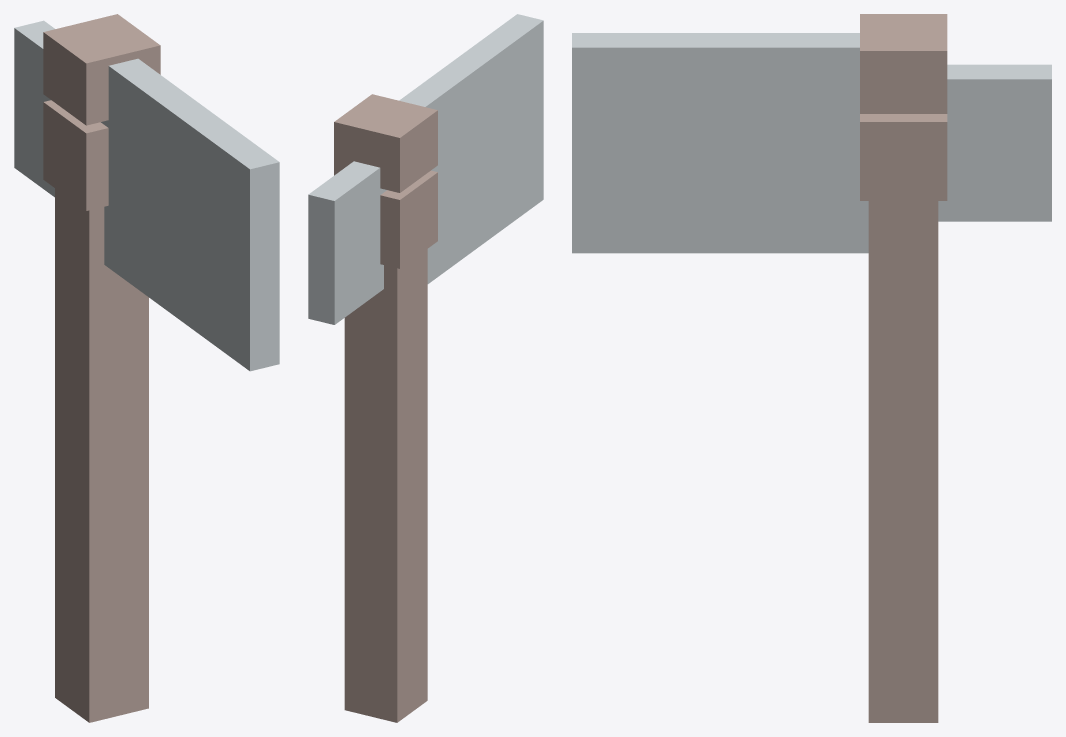
The model's file is axe.glb.
3 views of the same model, side by side, from view 1: azimuth 30°, elevation 25°; view 2: azimuth 150°, elevation 25°; view 3: azimuth 270°, elevation 25° (orthographic). The views are drawn at different scales.
Visible parts, largest first — view 1: Weapon_Axe; view 2: Weapon_Axe; view 3: Weapon_Axe.
Boxes of the visible parts, <box> form: Weapon_Axe: <box>14,14,279,722</box>; Weapon_Axe: <box>308,14,543,722</box>; Weapon_Axe: <box>572,14,1051,722</box>.
Size of the model in its own units: 0.1 by 0.855 by 0.55.
